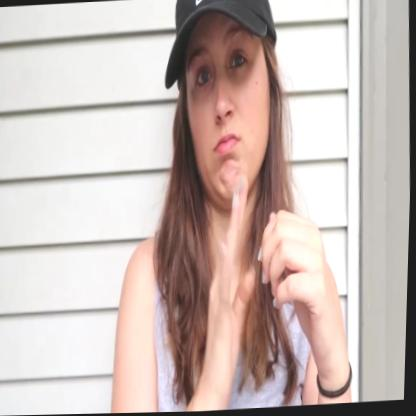Talk: (162, 0, 302, 413)
